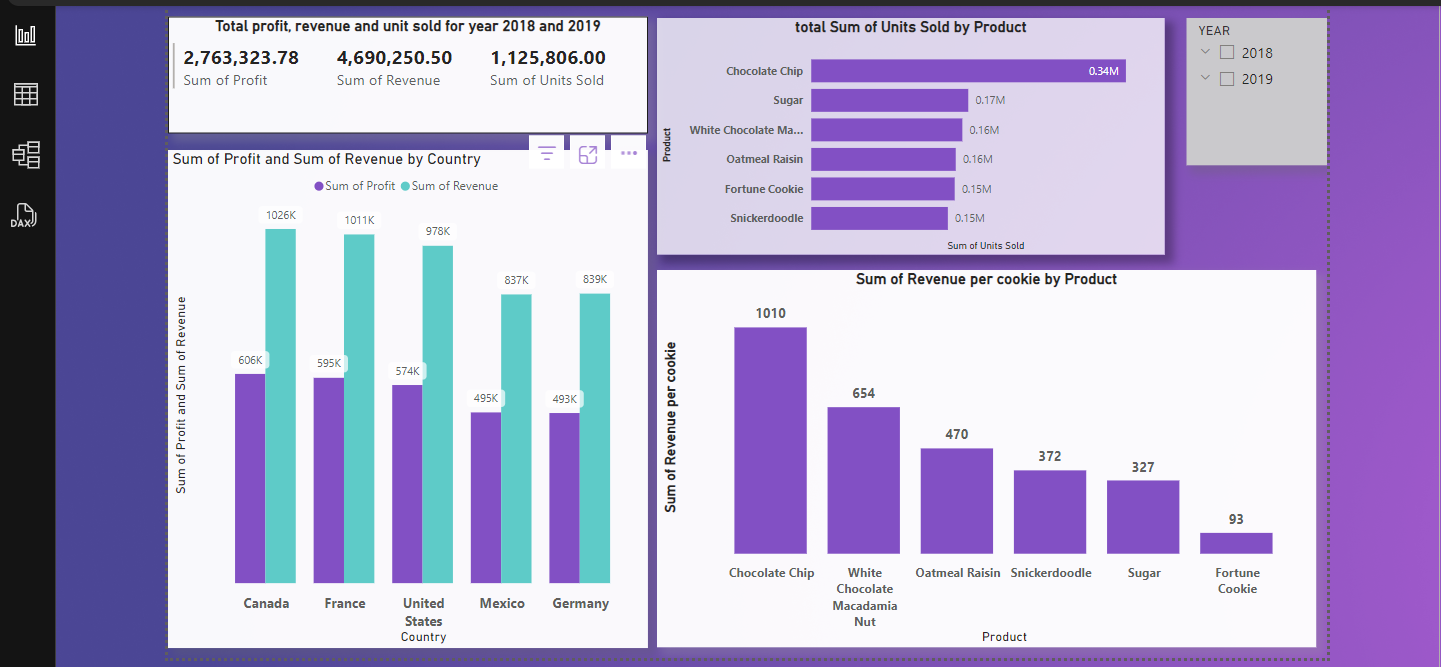

What the dashboard file says about the page in this screenshot:
{"tool":"powerbi","page":{"name":"Insight 1","canvas":[1280,720],"ordinal":0},"visuals":[{"type":"lineClusteredColumnComboChart","fields":{"Category":["Cookie Sales.Country"],"Y":["Sum(Cookie Sales.Profit)","Sum(Cookie Sales.Revenue)"]},"box":[0,158.3,530,550],"z":0},{"type":"multiRowCard","title":"Total profit, revenue and unit sold for year 2018 and 2019","fields":{"Values":["Sum(Cookie Sales.Profit)","Sum(Cookie Sales.Revenue)","Sum(Cookie Sales.Units Sold)"]},"box":[0,11.7,530,128.3],"z":1000},{"type":"barChart","title":"total Sum of Units Sold by Product","fields":{"Y":["Sum(Cookie Sales.Units Sold)"],"Category":["Cookie Sales.Product"]},"box":[540,13.7,560.5,261.5],"z":2000},{"type":"clusteredColumnChart","fields":{"Category":["Cookie Sales.Product"],"Y":["Sum(Cookie Sales.Revenue per cookie)"]},"box":[540,292.2,728,417],"z":3000},{"type":"slicer","fields":{"Values":["Cookie Sales.Year","Cookie Sales.Month Name"]},"box":[1124.5,13.7,155.5,162.3],"z":3001}]}

Visuals, with their boxes in screenshot pixels (x1, y1, x2, y2):
lineClusteredColumnComboChart - Cookie Sales.Country x Sum(Cookie Sales.Profit): BBox(161, 145, 646, 648)
"Total profit, revenue and unit sold for year 2018 and 2019" multiRowCard: BBox(161, 11, 646, 128)
"total Sum of Units Sold by Product" barChart: BBox(655, 13, 1168, 252)
clusteredColumnChart - Cookie Sales.Product x Sum(Cookie Sales.Revenue per cookie): BBox(655, 267, 1321, 649)
slicer - Cookie Sales.Year x Cookie Sales.Month Name: BBox(1190, 13, 1332, 161)
